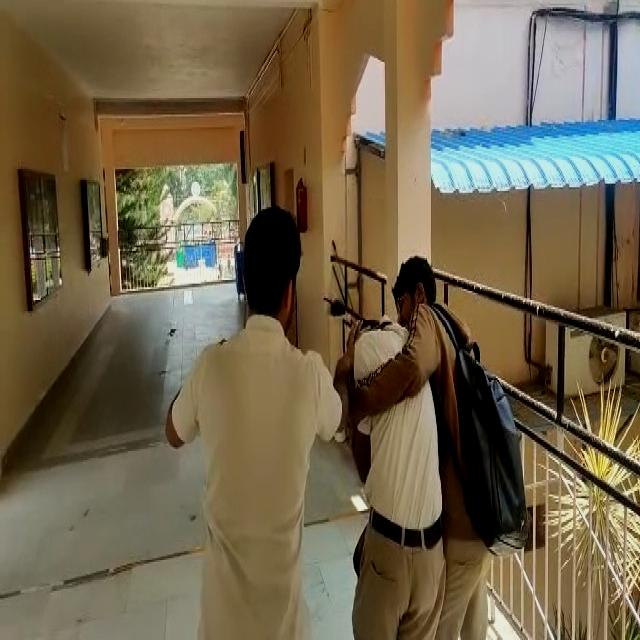fight: (128, 149, 548, 640)
